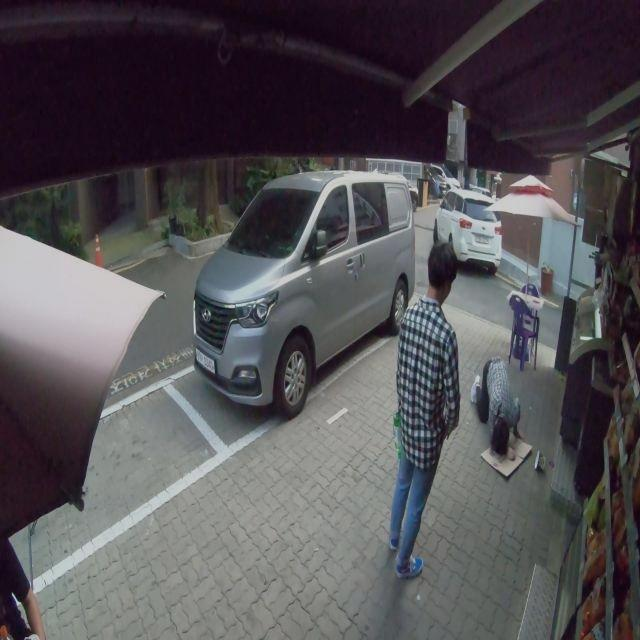non-fight: (384, 239, 464, 586)
